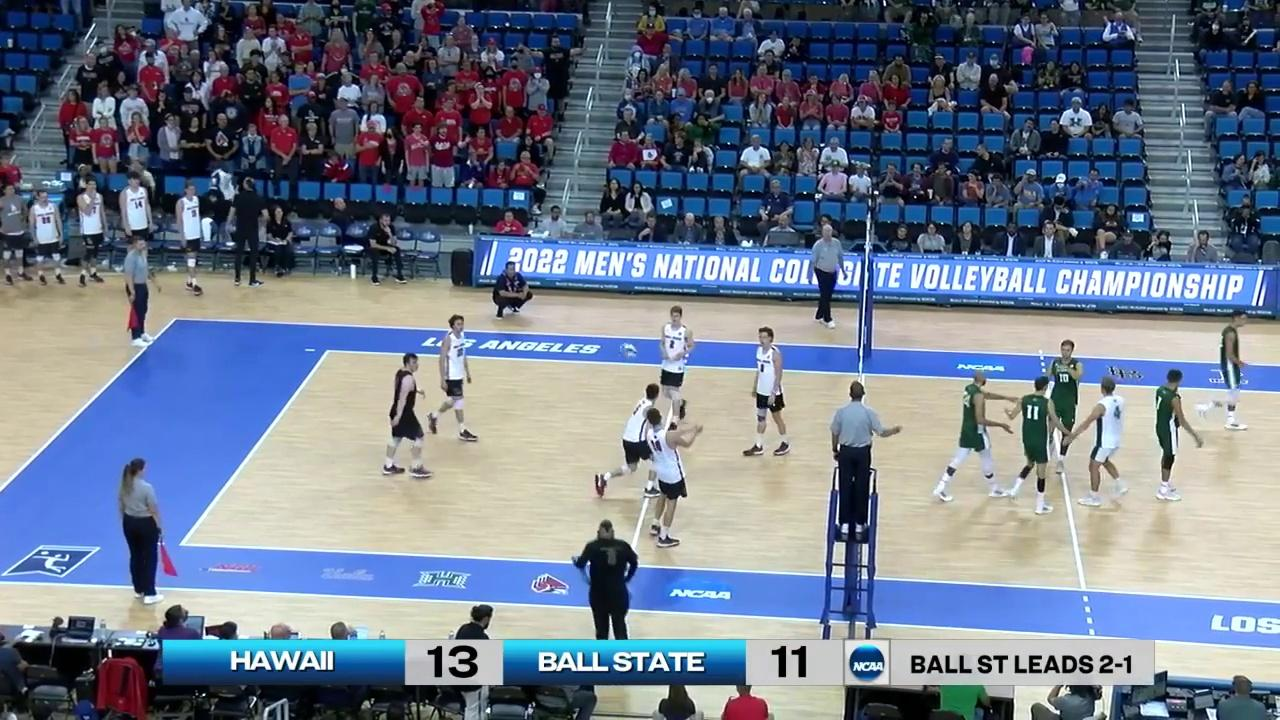player: (937, 369, 1004, 501), (596, 383, 661, 501), (1006, 376, 1059, 513), (1080, 375, 1129, 510), (382, 353, 433, 479), (1200, 308, 1250, 432), (428, 315, 476, 442), (647, 407, 690, 546), (1154, 369, 1198, 504), (746, 327, 791, 455), (1045, 339, 1082, 472), (659, 306, 694, 430)
refree: (830, 381, 891, 541), (120, 464, 171, 603), (124, 237, 156, 347), (811, 224, 843, 330)
